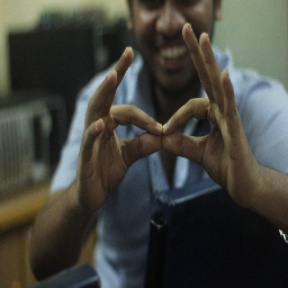B: (104, 88, 225, 174)
